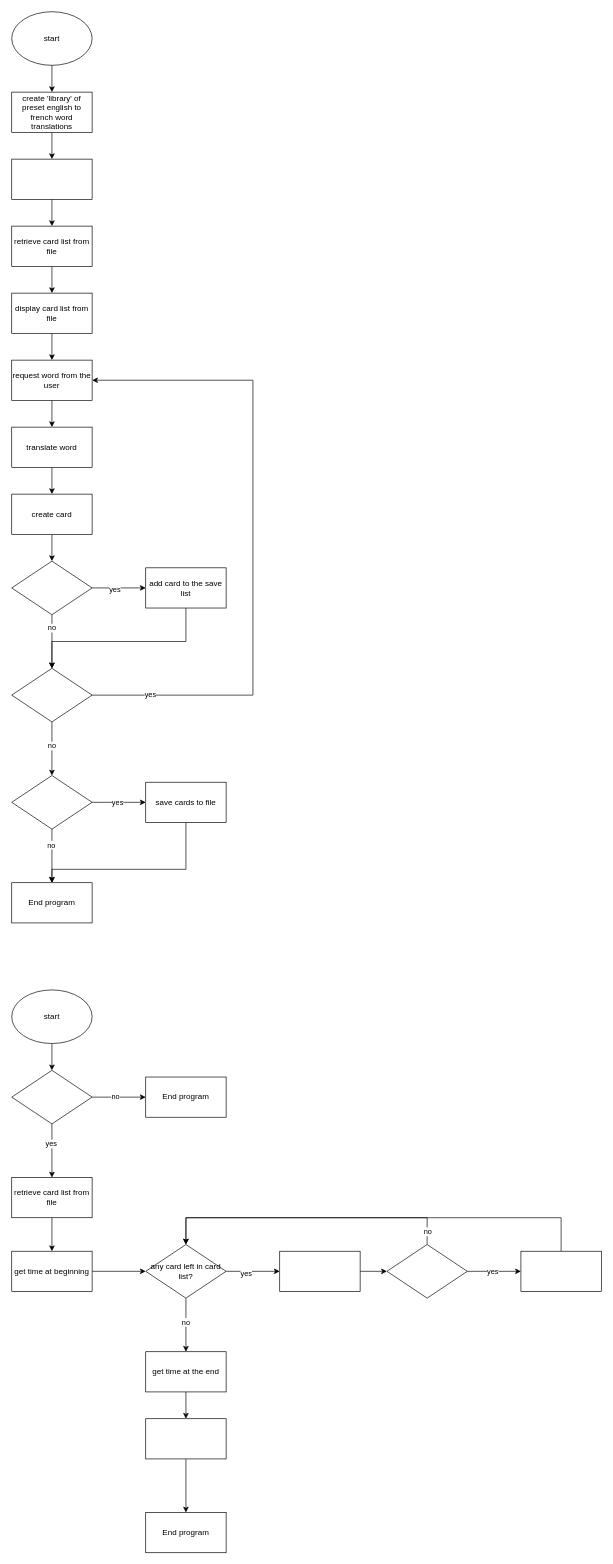
The diagram is 613 pixels wide and 1564 high, and some of its shapes have lost their labels. The centre of each missing label's shape, as x and y in pixels:
card file exist?: point (51, 1097)
compute and print time duration: point (185, 1438)
continue adding words?: point (51, 695)
import local translation library: point (51, 178)
is answer correct?: point (426, 1271)
make user guess a random card: point (319, 1271)
remove card from the list: point (560, 1271)
save cards to file?: point (51, 802)
save the card?: point (51, 587)
